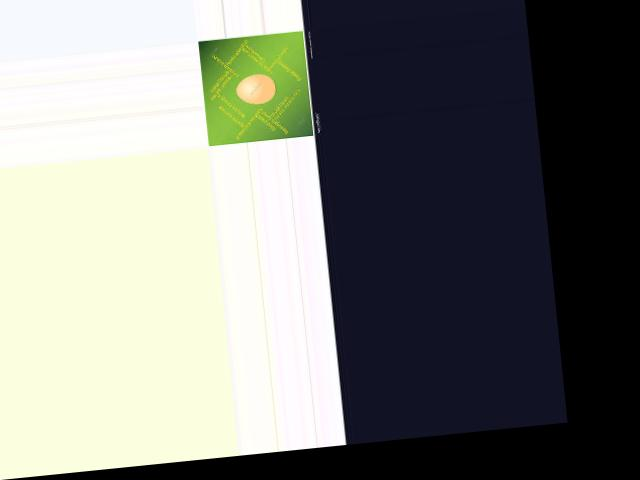egg: (235, 72, 276, 105)
